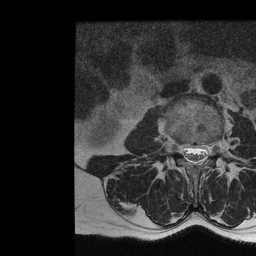CCS_normal: (191, 135, 199, 172)
LFS_normal: (207, 133, 216, 164)
LLS_normal: (199, 135, 208, 169)
RFS_normal: (173, 132, 182, 160)
RLS_normal: (182, 135, 190, 168)
